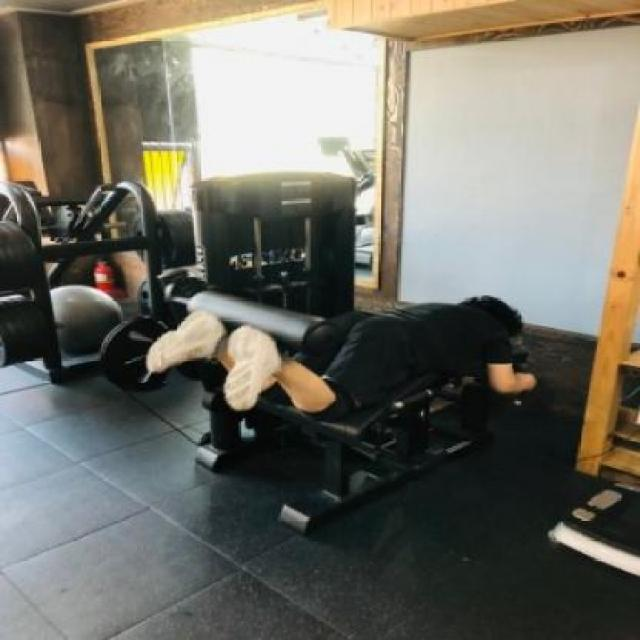reg curl machine: (95, 168, 552, 532)
